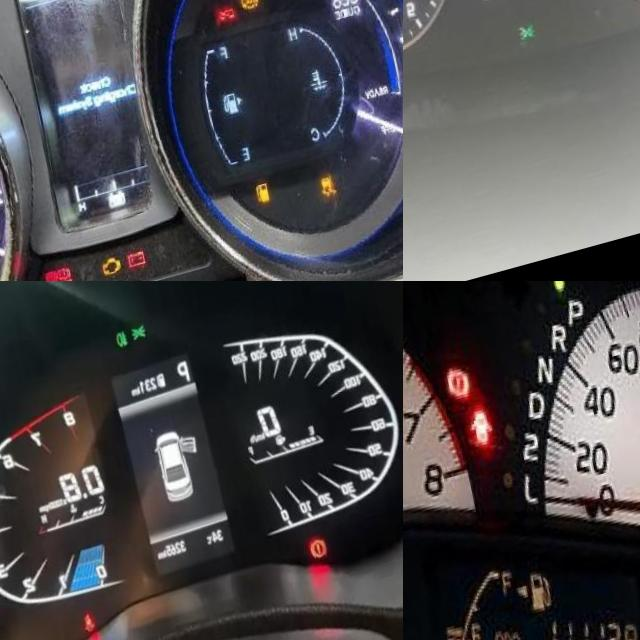Seat Belt: (63, 623, 76, 640)
